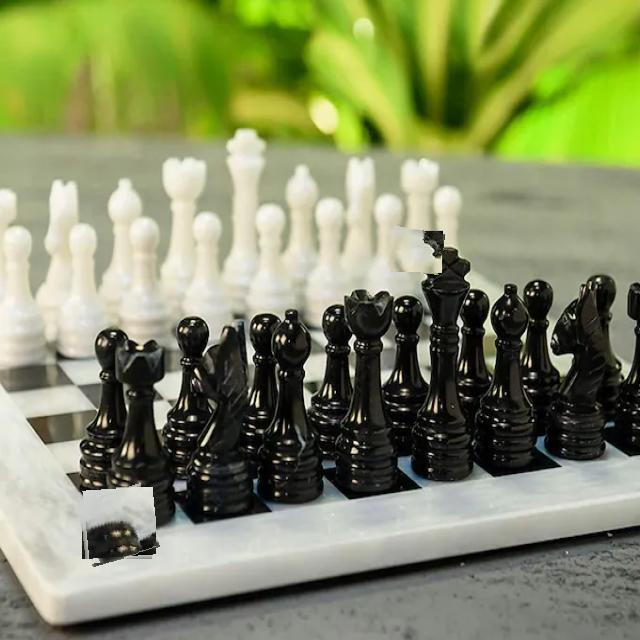chess-table-corners: (78, 487, 156, 564), (390, 228, 444, 274)
